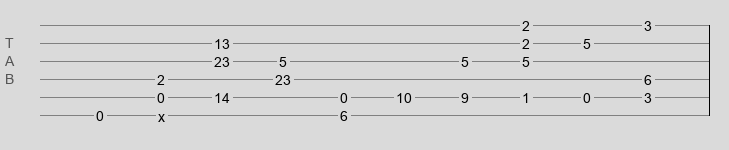0: (96, 108, 104, 118), (157, 90, 165, 100), (340, 90, 348, 100), (583, 90, 591, 100)
1: (522, 90, 530, 100)
10: (396, 90, 412, 100)
13: (214, 36, 230, 46)
14: (214, 90, 230, 100)
2: (157, 72, 165, 82), (522, 18, 530, 28), (522, 36, 530, 46)
23: (214, 54, 230, 64), (275, 72, 291, 82)
3: (644, 90, 652, 100), (644, 18, 652, 28)
5: (279, 54, 287, 64), (461, 54, 469, 64), (522, 54, 530, 64), (583, 36, 591, 46)
6: (340, 108, 348, 118), (644, 72, 652, 82)
9: (461, 90, 469, 100)
x: (158, 109, 165, 117)
